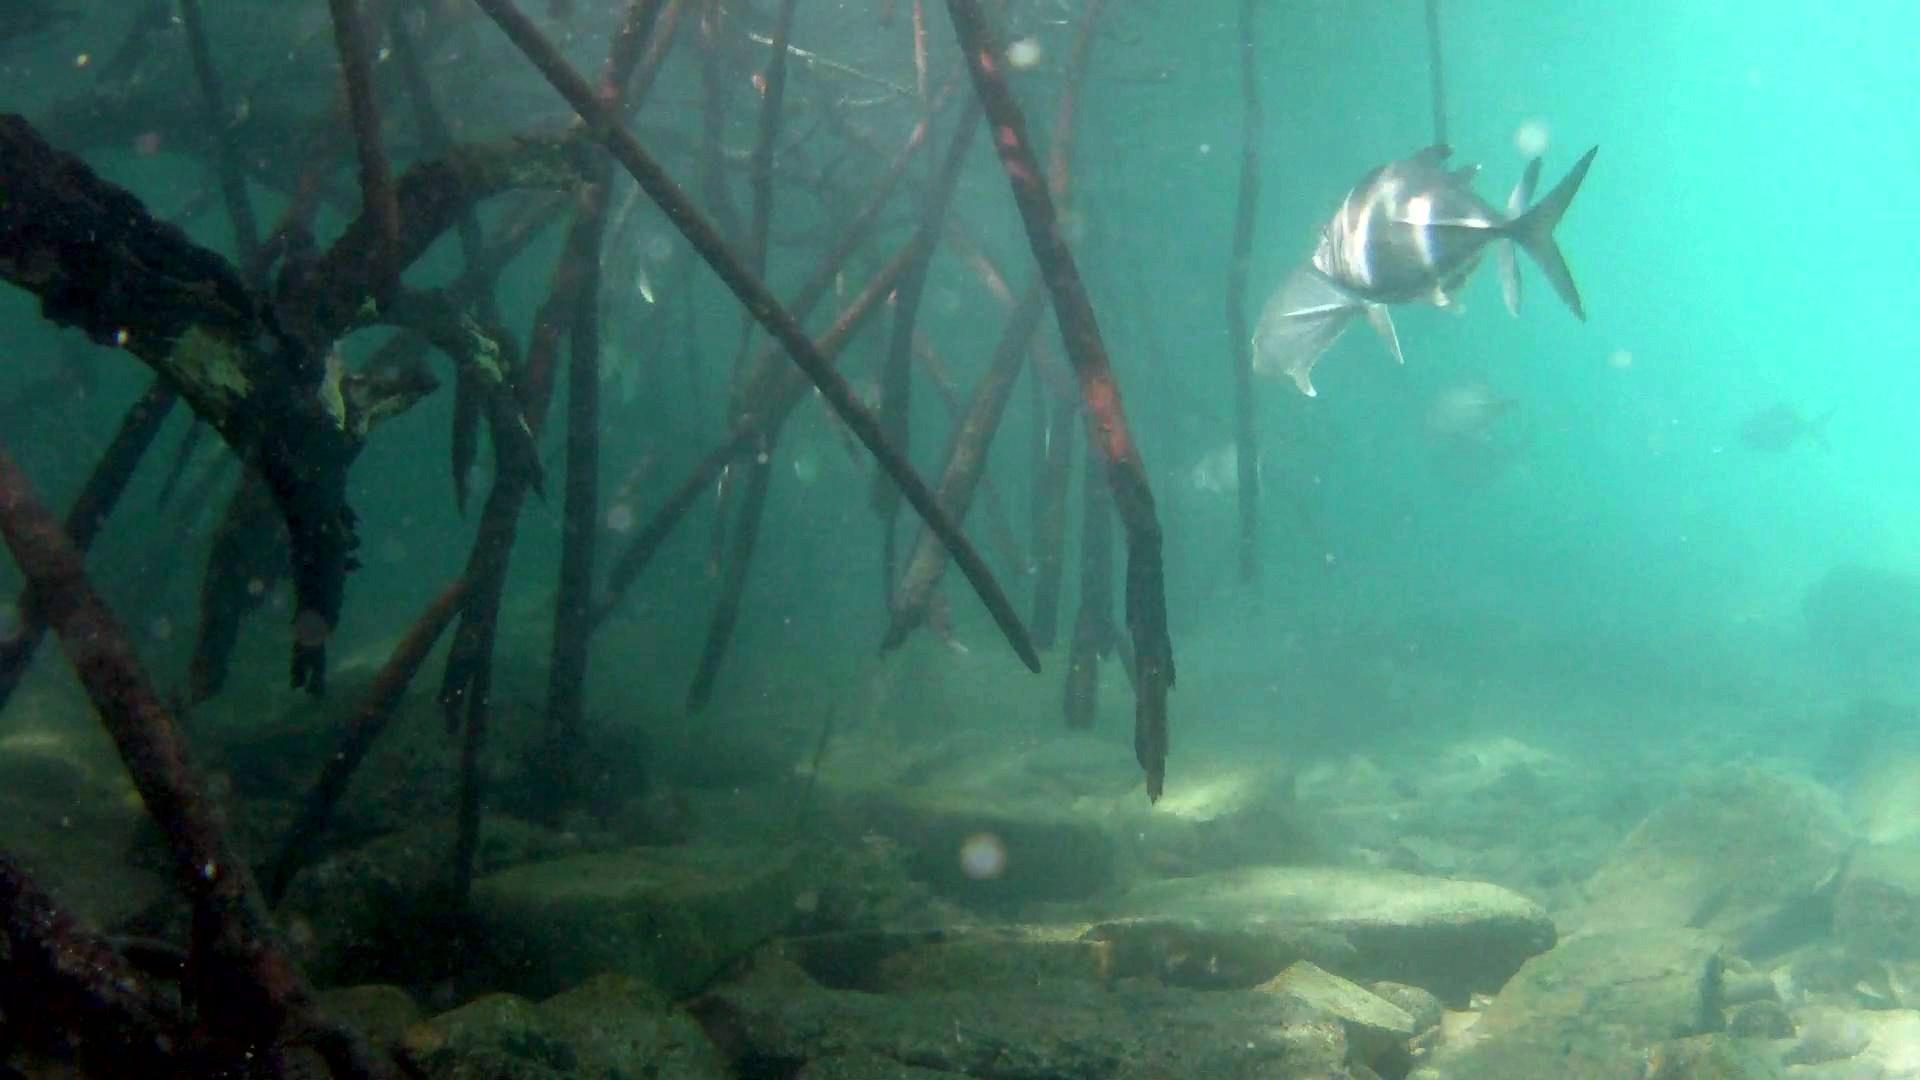caranx: (1291, 128, 1549, 331)
